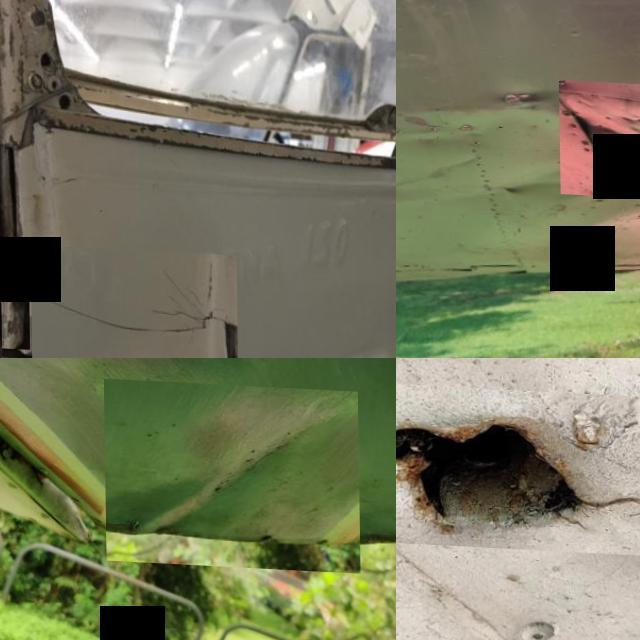Crack: (396, 380, 640, 555), (30, 244, 237, 358), (0, 131, 28, 248), (40, 138, 88, 197), (0, 257, 28, 349)
Dent: (103, 376, 360, 568), (557, 76, 640, 202)
